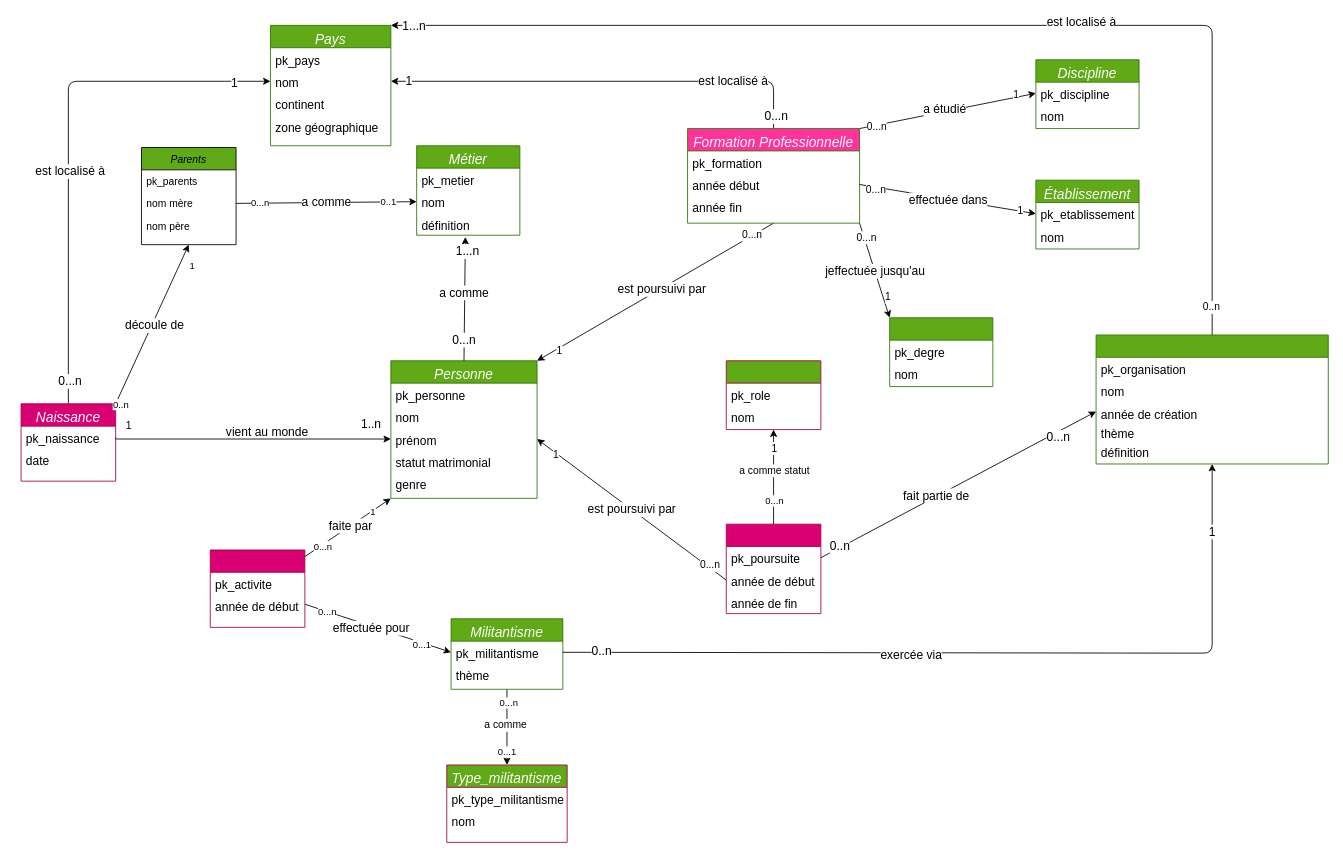
The diagram is 1343 pixels wide and 858 high, and some of its shapes have lost their labels. The box of each missing label's shape, as (x1, y1, x2, y2) in pixels:
Activité: (209, 549, 305, 627)
Degré: (889, 317, 993, 387)
Membre: (725, 523, 821, 614)
Organisation ou association politique: (1095, 334, 1328, 464)
Rôle: (725, 360, 821, 430)
